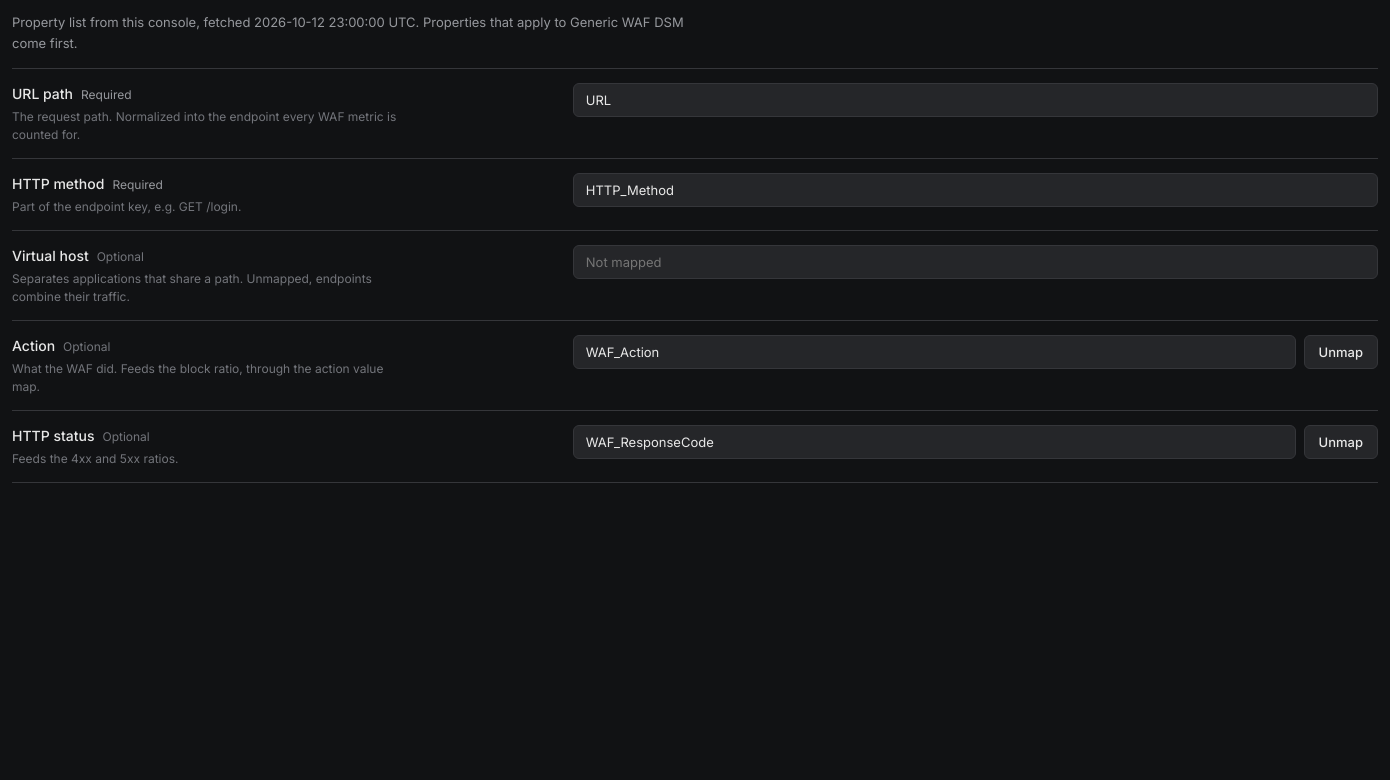
Test case: FieldMappingForm › suggests catalog names, and picks one with the keyboard
Click the dropdown labelled "Virtual host": (975, 262) [573, 245, 1378, 279]
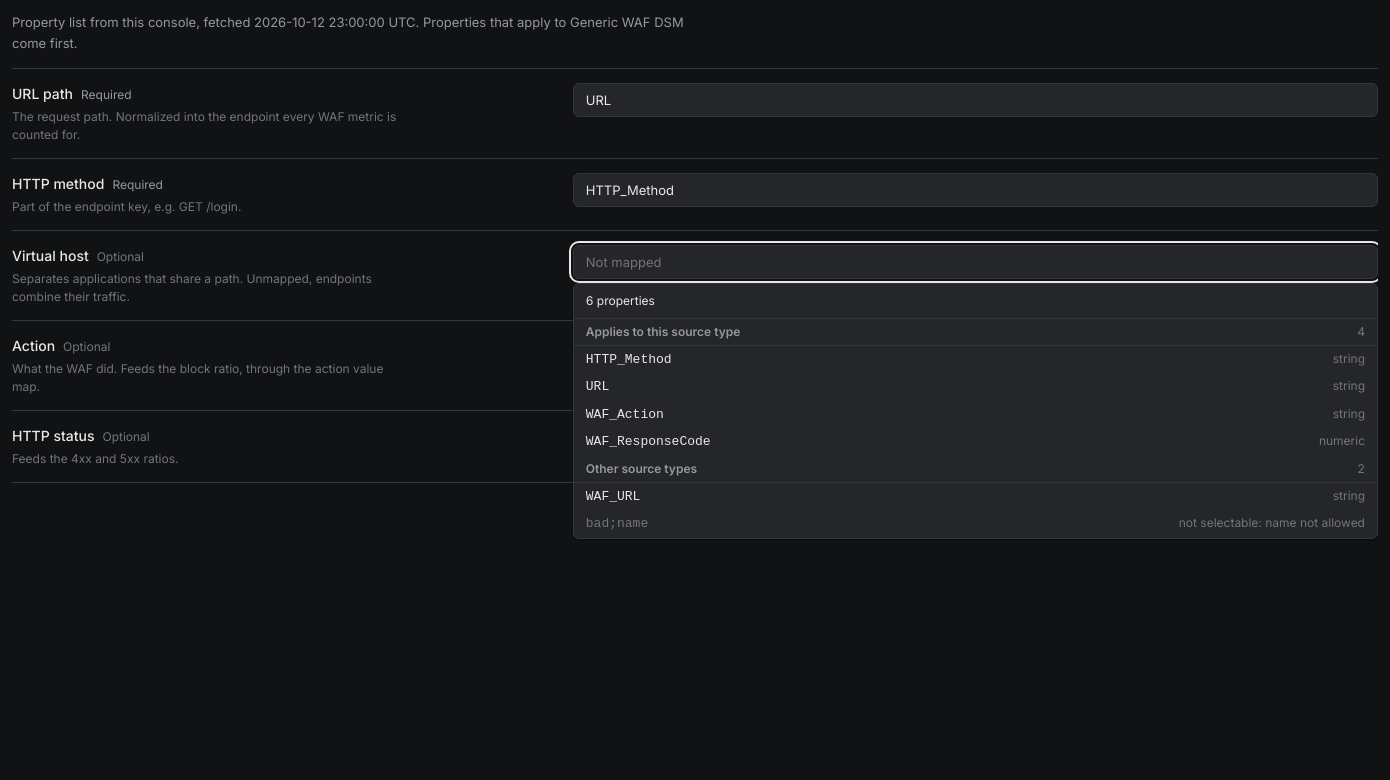
Now the option "HTTP_Method string" is shown, box [586, 351, 1365, 367]
In the dropdown labelled "Virtual host": (975, 262) [573, 245, 1378, 279], type "HTTP"
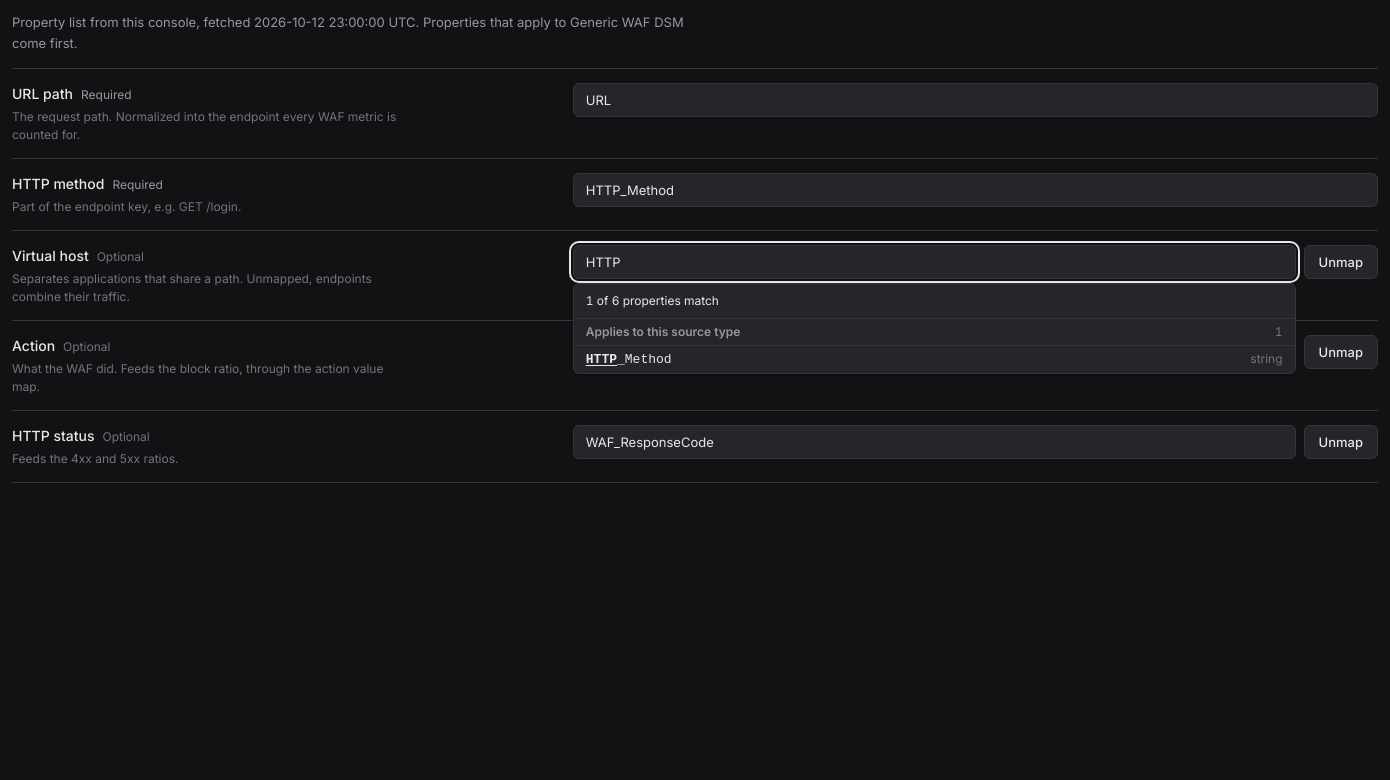
Now the option "HTTP_Method string" is shown, box [586, 351, 1283, 367]
Press Arrowdown Enter
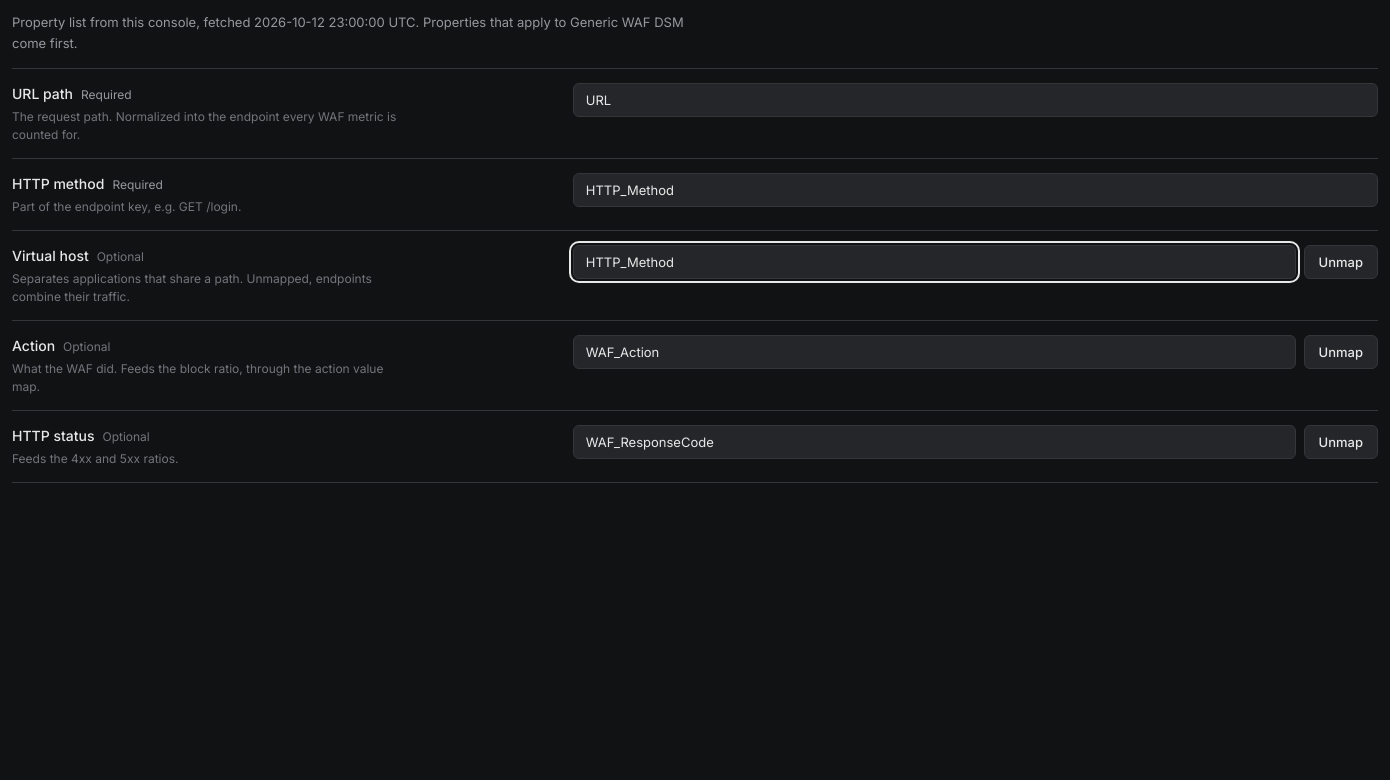
Now the dropdown labelled "Virtual host" holds "HTTP_Method", box [573, 245, 1296, 279]
